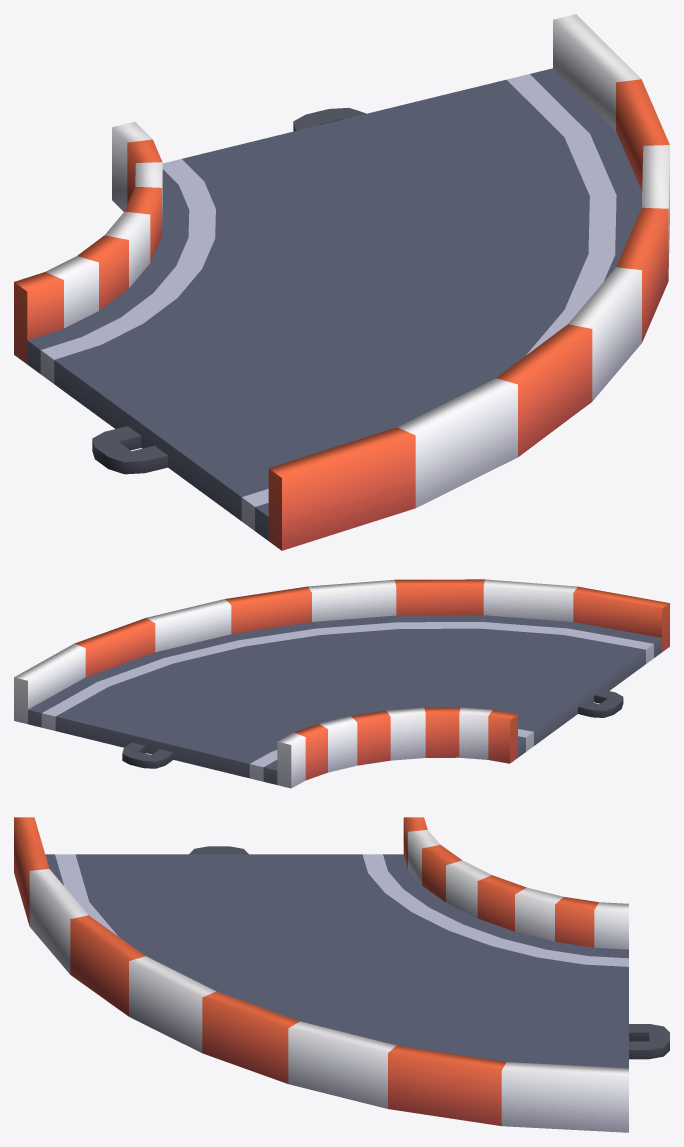
Rendered from track-road-wide-corner-small.glb.
3 views of the same model, one above another, from view 1: azimuth 30°, elevation 25°; view 2: azimuth 150°, elevation 25°; view 3: azimuth 270°, elevation 25° (orthographic). The views are drawn at different scales.
Visible parts, largest first — view 1: track-road-wide-corner-small; view 2: track-road-wide-corner-small; view 3: track-road-wide-corner-small.
Boxes of the visible parts, left/top/right/bottom form: track-road-wide-corner-small: left=14, top=14, right=669, bottom=550; track-road-wide-corner-small: left=14, top=579, right=669, bottom=788; track-road-wide-corner-small: left=14, top=817, right=669, bottom=1132.
Size of the model in its own units: 3.2 by 0.3 by 3.2.
1 material, 1 textured.
